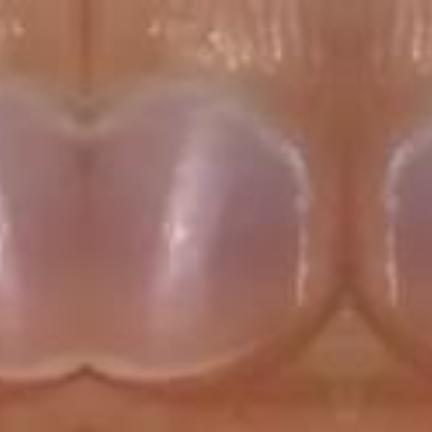Nail: (85, 87, 307, 381), (0, 88, 85, 381), (385, 122, 432, 347)
